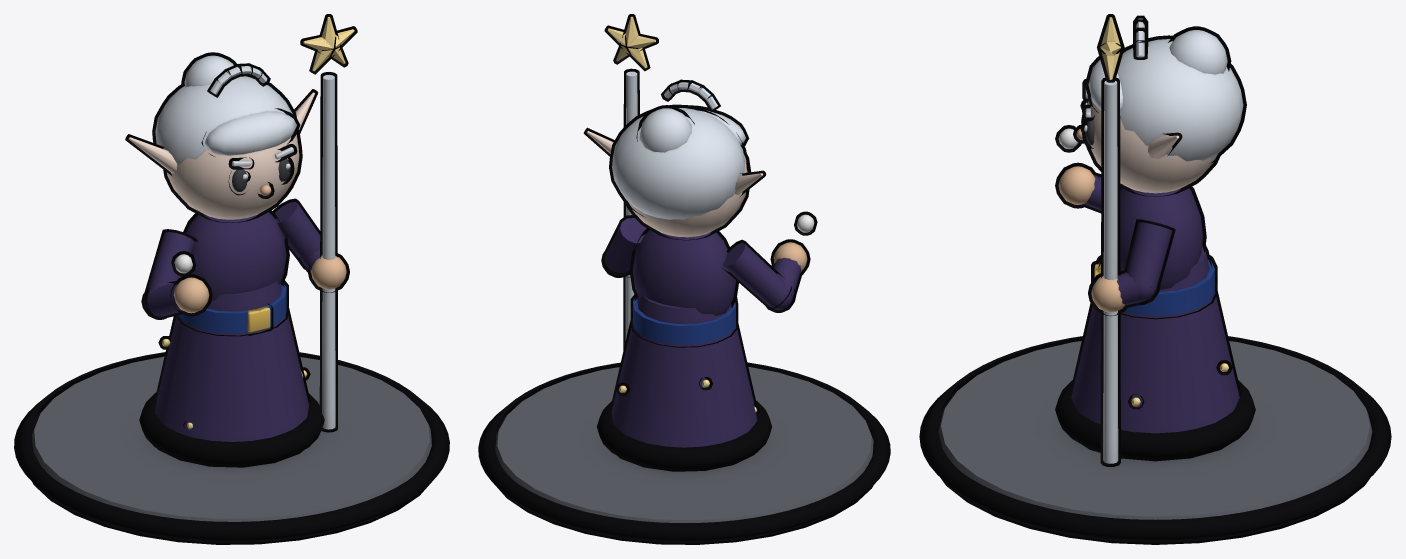
File: star_speaker.fbx
3 renders of one model, left to right at view 1: azimuth 30°, elevation 25°; view 2: azimuth 150°, elevation 25°; view 3: azimuth 270°, elevation 25°, orthographic. The views are drawn at different scales.
Parts seen in each view (by area): view 1: star_speaker; view 2: star_speaker; view 3: star_speaker.
Boxes of the visible parts, <box> form: star_speaker: <box>14,14,449,544</box>; star_speaker: <box>478,14,890,544</box>; star_speaker: <box>919,14,1391,544</box>.
Bounding box in the file's own units: 1.58 × 1.76 × 1.58.
2 materials, 1 textured.
